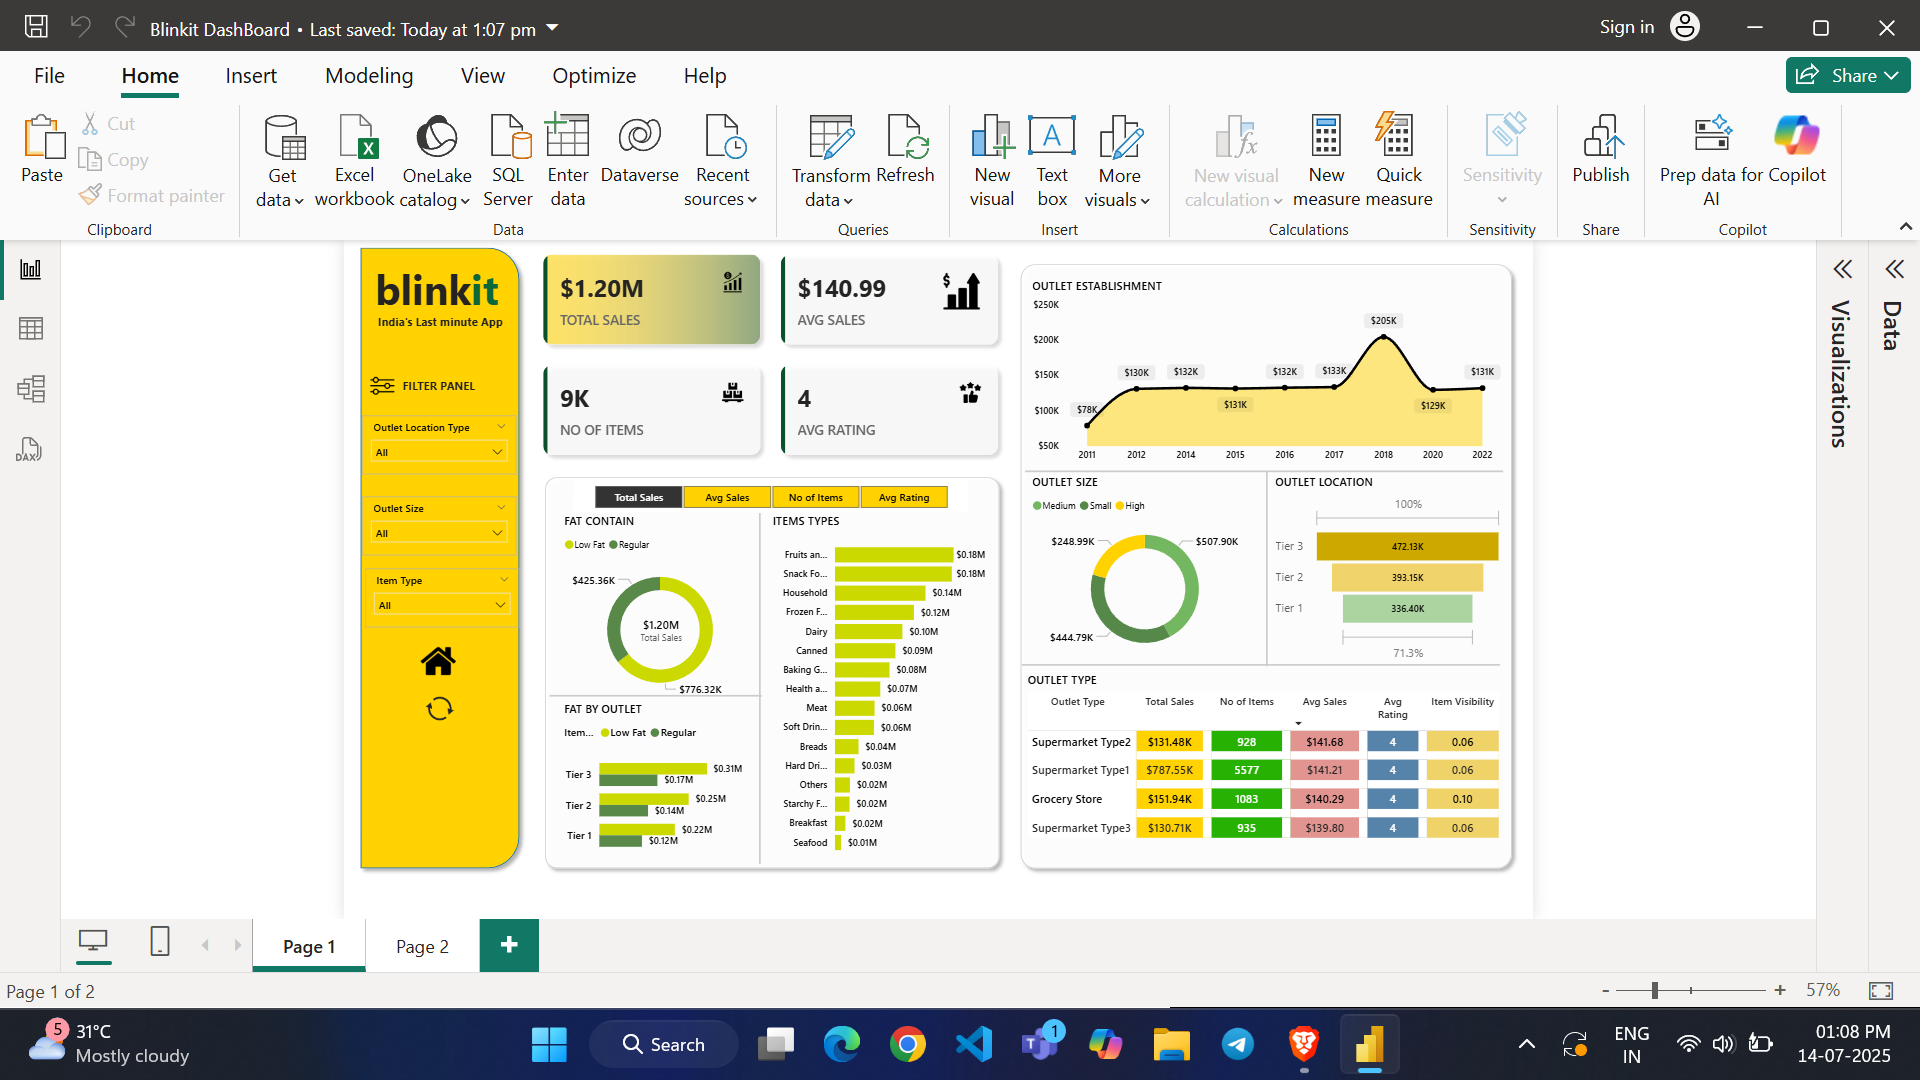

What the dashboard file says about the page in this screenshot:
{"tool":"powerbi","page":{"name":"Page 1","canvas":[1400,800],"ordinal":0},"visuals":[{"type":"shape","box":[10.6,0,205,749.4],"z":0},{"type":"textbox","box":[31.8,19.4,167.9,79.5],"z":1000},{"type":"textbox","box":[6.7,81.7,213.3,36.7],"z":2000},{"type":"cardVisual","fields":{"Data":["Table1.Total Sales","Table1.Avg Sales","Table1.No of Items","Table1.Avg Rating"]},"box":[217.4,0,570.9,270.4],"z":3000},{"type":"shape","box":[228,270.4,553.2,479],"z":4000},{"type":"donutChart","title":"FAT CONTAIN","fields":{"Y":["Table1.Total Sales"],"Category":["Table1.Item Fat Content"]},"box":[255,321.7,235,230],"z":5000},{"type":"slicer","fields":{"Values":["Metrics.Metrics"]},"box":[270.4,282.8,464.8,38.9],"z":6000},{"type":"cardVisual","fields":{"Data":["Table1.Total Sales"]},"box":[328.3,423.3,90,71.7],"z":7000},{"type":"clusteredBarChart","title":"FAT BY OUTLET","fields":{"Y":["Table1.Total Sales"],"Category":["Table1.Outlet Location Type"],"Series":["Table1.Item Fat Content"]},"box":[255.4,542.9,219.6,192.9],"z":8000},{"type":"shape","box":[241.7,531.7,250,10],"z":9000},{"type":"shape","box":[483.3,321.7,15,413.3],"z":10000},{"type":"barChart","title":"ITEMS TYPES","fields":{"Y":["Table1.Total Sales"],"Category":["Table1.Item Type"]},"box":[500,322.2,260.3,411.1],"z":11000},{"type":"shape","box":[788.9,19,596.8,730.2],"z":12000},{"type":"lineChart","title":"OUTLET ESTABLISHMENT","fields":{"Category":["Table1.Outlet Establishment Year"],"Y":["Table1.Total Sales"]},"box":[806.3,44.4,563.5,225.4],"z":13000},{"type":"shape","box":[803.2,268.3,563.5,7.9],"z":14000},{"type":"donutChart","title":"OUTLET SIZE","fields":{"Y":["Table1.Total Sales"],"Category":["Table1.Outlet Size"]},"box":[806.3,276.2,274.6,225.4],"z":15000},{"type":"shape","box":[1082.5,271.4,7.9,230.2],"z":16000},{"type":"funnel","title":"OUTLET LOCATION","fields":{"Category":["Table1.Outlet Location Type"],"Y":["Sum(Table1.Sales)"]},"box":[1092.1,276.2,277.8,225.4],"z":17000},{"type":"shape","box":[798.4,496.8,563.5,7.9],"z":18000},{"type":"pivotTable","title":"OUTLET TYPE","fields":{"Rows":["Table1.Outlet Type"],"Values":["Table1.Total Sales","Table1.No of Items","Table1.Avg Sales","Table1.Avg Rating","Avg(Table1.Item Visibility)"]},"box":[800,509.5,566.7,204.8],"z":19000},{"type":"slicer","fields":{"Values":["Table1.Outlet Location Type"]},"box":[21.4,207.1,182.1,69.6],"z":20000},{"type":"slicer","fields":{"Values":["Table1.Outlet Size"]},"box":[21.4,301.8,182.1,69.6],"z":21000},{"type":"slicer","fields":{"Values":["Table1.Item Type"]},"box":[25,387.5,182.1,69.6],"z":22000},{"type":"textbox","box":[53.6,157.1,117.9,37.5],"z":23000},{"type":"image","box":[21.4,148.2,48.2,46.4],"z":24000},{"type":"image","box":[78.6,469.6,66.1,51.8],"z":25000},{"type":"image","box":[75,521.4,76.8,60.7],"z":26000}]}

Visuals, with their boxes on the page's 1400x800 design canvas (x1, y1, x2, y2). These are canvas units, not pixel positions in the 1920x1080 screenshot, which may show the page scaled, cropped or inside an application window:
shape: 11,0,216,749
textbox: 32,19,200,99
textbox: 7,82,220,118
cardVisual - Table1.Total Sales x Table1.Avg Sales: 217,0,788,270
shape: 228,270,781,749
"FAT CONTAIN" donutChart: 255,322,490,552
slicer - Metrics.Metrics: 270,283,735,322
cardVisual - Table1.Total Sales: 328,423,418,495
"FAT BY OUTLET" clusteredBarChart: 255,543,475,736
shape: 242,532,492,542
shape: 483,322,498,735
"ITEMS TYPES" barChart: 500,322,760,733
shape: 789,19,1386,749
"OUTLET ESTABLISHMENT" lineChart: 806,44,1370,270
shape: 803,268,1367,276
"OUTLET SIZE" donutChart: 806,276,1081,502
shape: 1082,271,1090,502
"OUTLET LOCATION" funnel: 1092,276,1370,502
shape: 798,497,1362,505
"OUTLET TYPE" pivotTable: 800,510,1367,714
slicer - Table1.Outlet Location Type: 21,207,204,277
slicer - Table1.Outlet Size: 21,302,204,371
slicer - Table1.Item Type: 25,388,207,457
textbox: 54,157,172,195
image: 21,148,70,195
image: 79,470,145,521
image: 75,521,152,582
